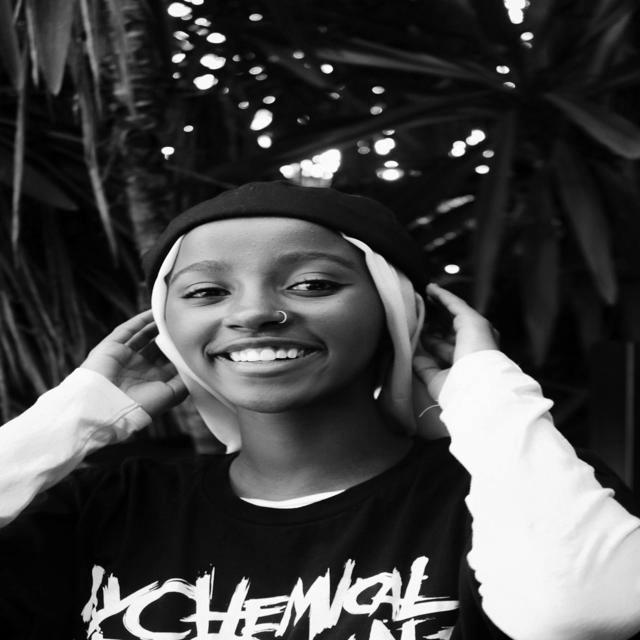Happiness: (160, 215, 377, 417)
